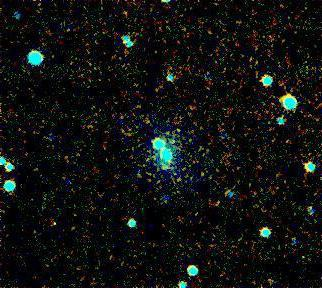star: (151, 152, 181, 182)
